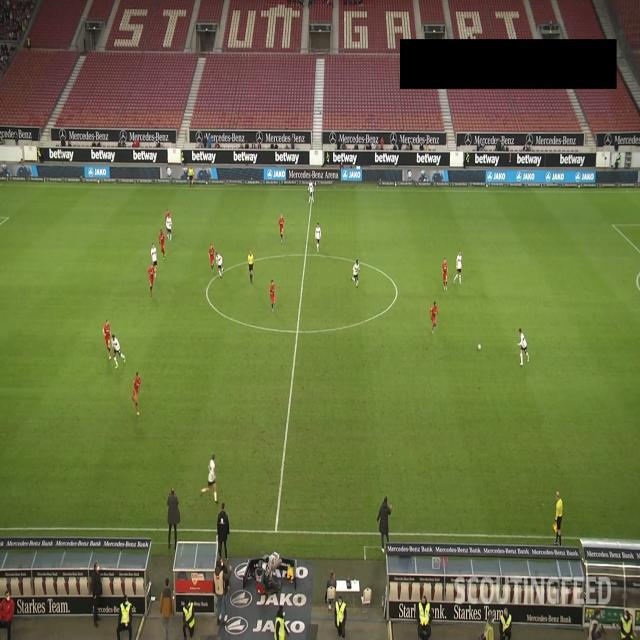ball: (477, 343, 482, 351)
